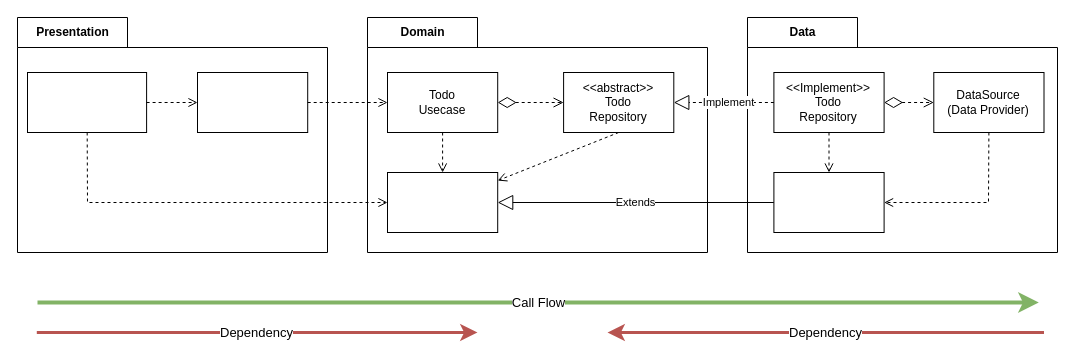
The diagram is 1075 pixels wide and 361 high, and some of its shapes have lost their labels. Here are the shapes that lost their labels. From the top down, the centre of each, then its label:
point (86, 102): Todo Screen
point (252, 102): Todo Bloc
point (442, 202): TodoEntity
point (828, 202): TodoModel
